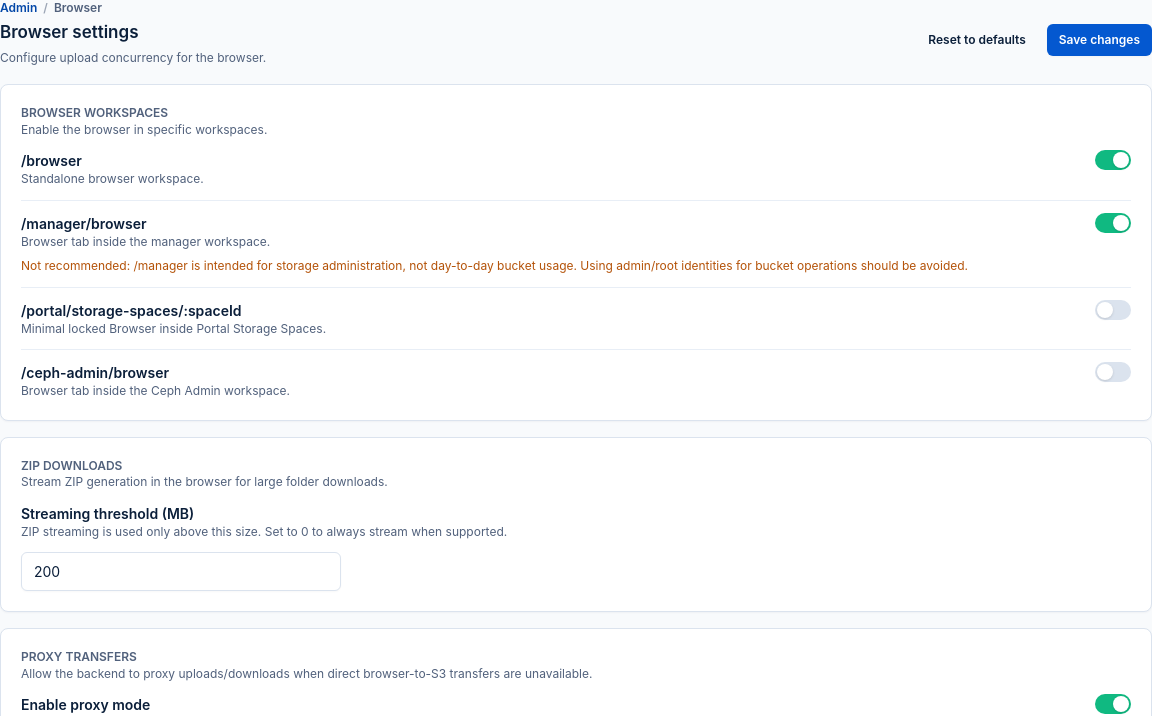
BrowserSettingsPage › resets the Portal Browser workspace toggle from defaults
The image size is (1152, 716).
Expected: the checkbox named "Enable Browser in Portal Storage Spaces" is not checked, 1095,300 -> 1131,320
Click the button "Reset to defaults".
click(977, 40)  # box 915,24 -> 1039,56
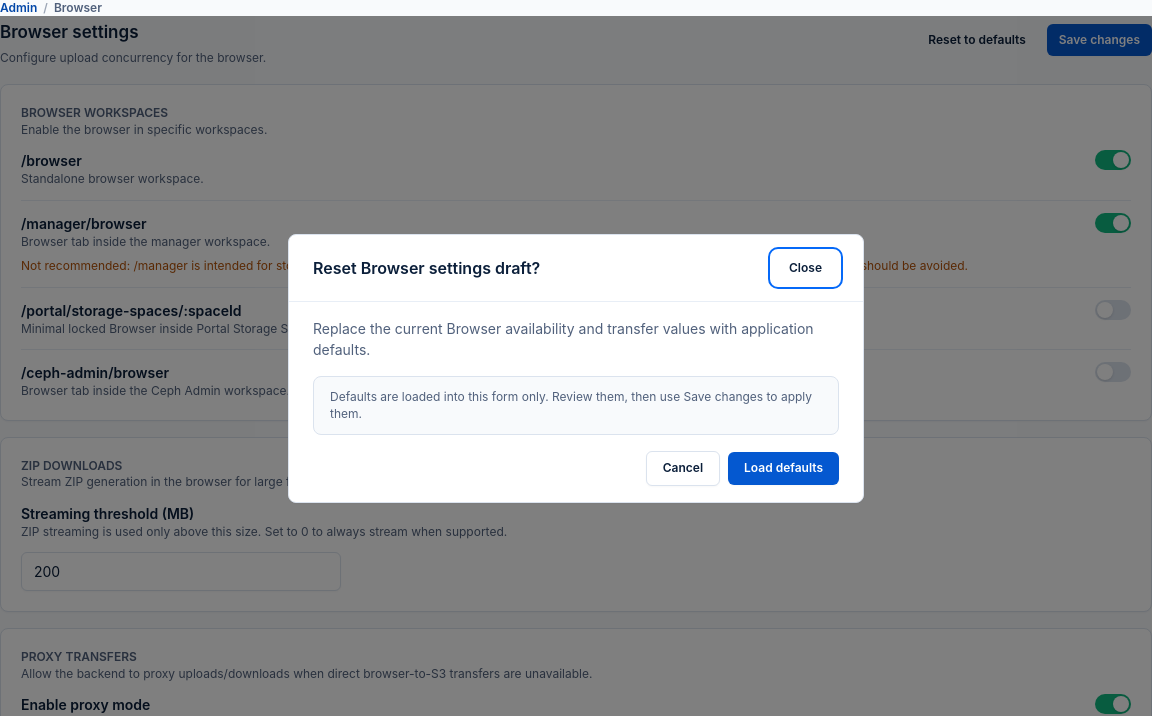
Expected: the heading "Reset Browser settings draft?" is shown, 313,257 -> 540,279
Click the button "Load defaults".
click(784, 468)  # box 728,452 -> 839,484
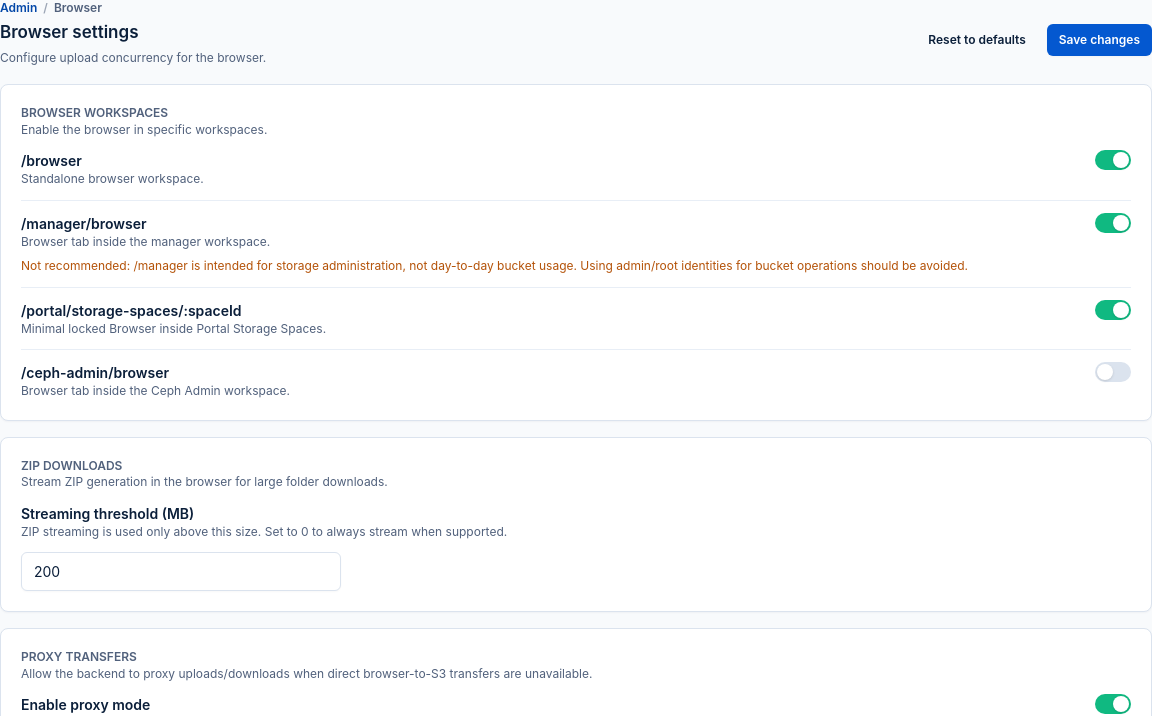
Expected: the checkbox named "Enable Browser in Portal Storage Spaces" is checked, 1095,300 -> 1131,320
